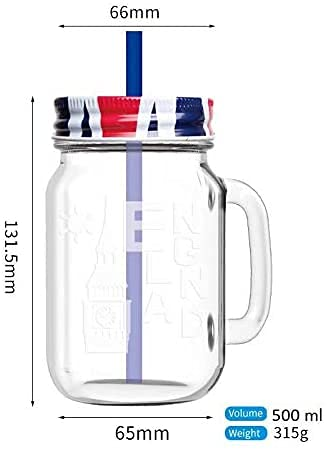66mm: (110, 6, 159, 19)
